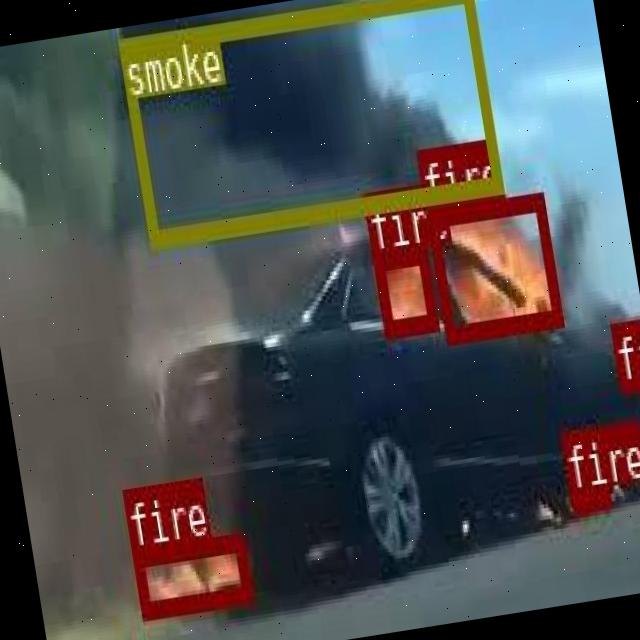fire: (425, 192, 561, 342), (132, 532, 250, 616), (370, 244, 437, 334), (609, 319, 640, 389), (568, 484, 608, 508)
smoke: (117, 0, 502, 245)
